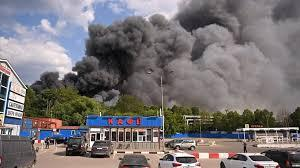smoke: (30, 0, 300, 116)
